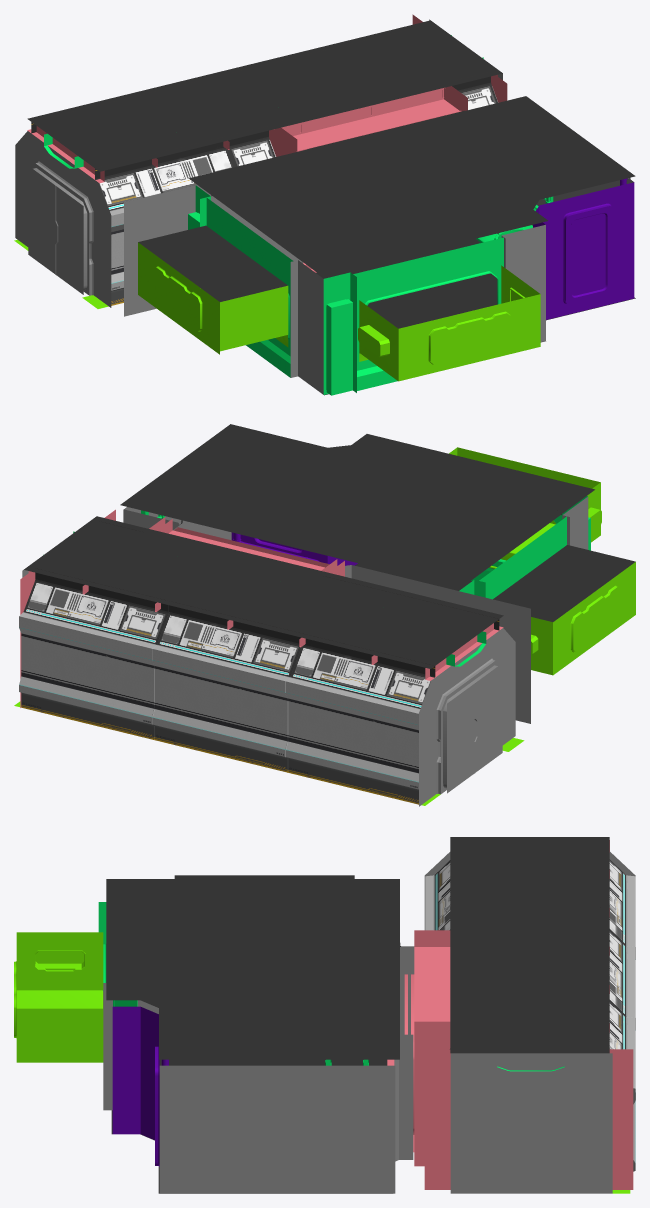
3 views of the same model, one above another, from view 1: azimuth 30°, elevation 25°; view 2: azimuth 150°, elevation 25°; view 3: azimuth 270°, elevation 25° (orthographic). The views are drawn at different scales.
Parts seen in each view (by area): view 1: ceiling, 3, 2, wall, floor, doorWall, corridorWall, 1, corridorDoorWall, corriodrDoorLeft, corridorDoorRight; view 2: ceiling, corridorWall, 3, wall, corridorDoorWall, floor, 1, 2, corridorDoorRight, corriodrDoorLeft, doorWall; view 3: ceiling, wall, 1, 3, corridorWall, doorWall, floor, 2, corridorDoorWall.
Boxes of the visible parts, bbox=[...] form: ceiling: bbox=[27, 20, 635, 275]; 3: bbox=[14, 239, 540, 381]; 2: bbox=[44, 35, 553, 395]; wall: bbox=[124, 19, 633, 394]; floor: bbox=[138, 111, 635, 395]; doorWall: bbox=[533, 178, 634, 319]; corridorWall: bbox=[31, 26, 498, 305]; 1: bbox=[27, 14, 507, 272]; corridorDoorWall: bbox=[15, 131, 111, 307]; corriodrDoorLeft: bbox=[55, 186, 83, 294]; corridorDoorRight: bbox=[28, 166, 57, 273]; ceiling: bbox=[24, 424, 594, 668]; corridorWall: bbox=[19, 522, 499, 804]; 3: bbox=[14, 447, 635, 805]; wall: bbox=[22, 496, 588, 723]; corridorDoorWall: bbox=[419, 628, 515, 806]; floor: bbox=[180, 514, 635, 621]; 1: bbox=[20, 509, 503, 707]; 2: bbox=[43, 496, 590, 666]; corridorDoorRight: bbox=[447, 683, 477, 793]; corriodrDoorLeft: bbox=[475, 663, 502, 772]; doorWall: bbox=[231, 532, 357, 565]; ceiling: bbox=[106, 837, 609, 1059]; wall: bbox=[103, 946, 612, 1193]; 1: bbox=[387, 840, 633, 1189]; 3: bbox=[14, 932, 630, 1193]; corridorWall: bbox=[425, 859, 635, 1171]; doorWall: bbox=[112, 1006, 168, 1166]; floor: bbox=[111, 875, 400, 1193]; 2: bbox=[98, 902, 564, 1071]; corridorDoorWall: bbox=[424, 852, 635, 929].
Size of the model in its own units: 1125 by 332 by 1325.
